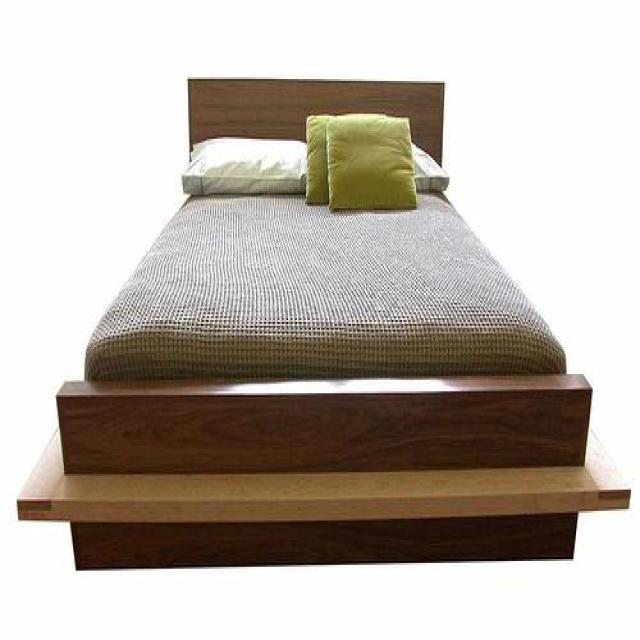bed: (17, 72, 632, 575)
